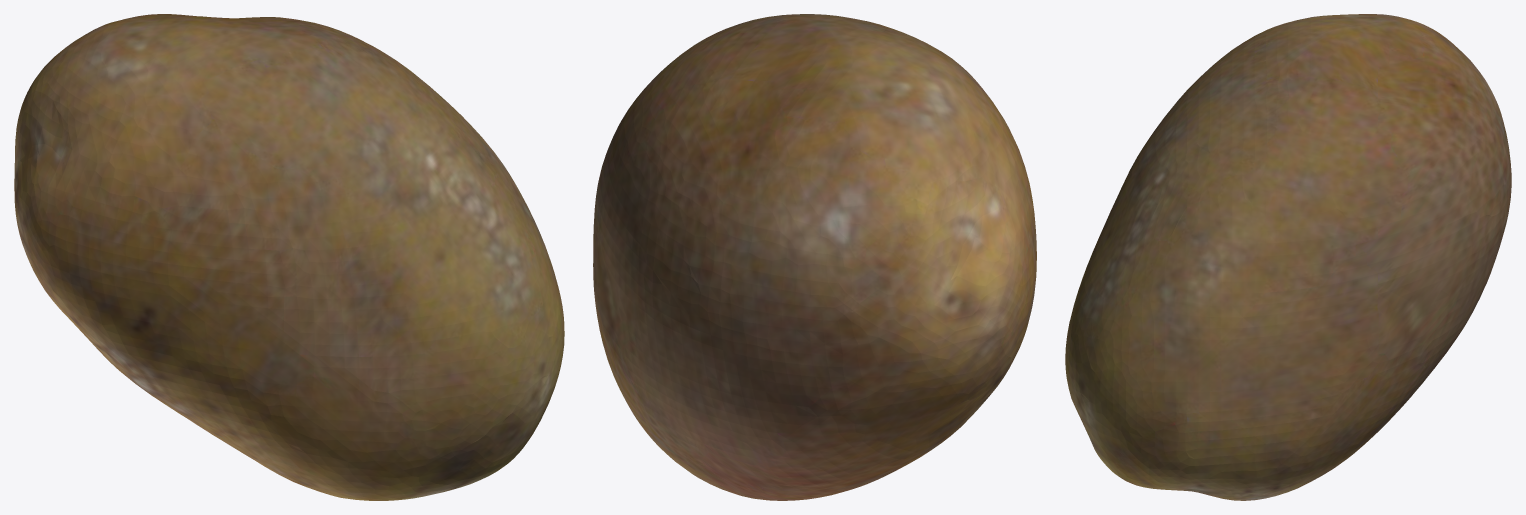
The model's file is potatoPaperScan6.obj.
3 renders of one model, left to right at view 1: azimuth 30°, elevation 25°; view 2: azimuth 150°, elevation 25°; view 3: azimuth 270°, elevation 25°, orthographic. The views are drawn at different scales.
Visible parts, largest first — view 1: potatoPaperScan6; view 2: potatoPaperScan6; view 3: potatoPaperScan6.
Part boxes in pixels (left/top/right/bottom): potatoPaperScan6: left=14, top=14, right=564, bottom=500; potatoPaperScan6: left=593, top=14, right=1036, bottom=500; potatoPaperScan6: left=1065, top=14, right=1511, bottom=500.
Bounding box in the file's own units: 55.65 × 56.3 × 55.75.
